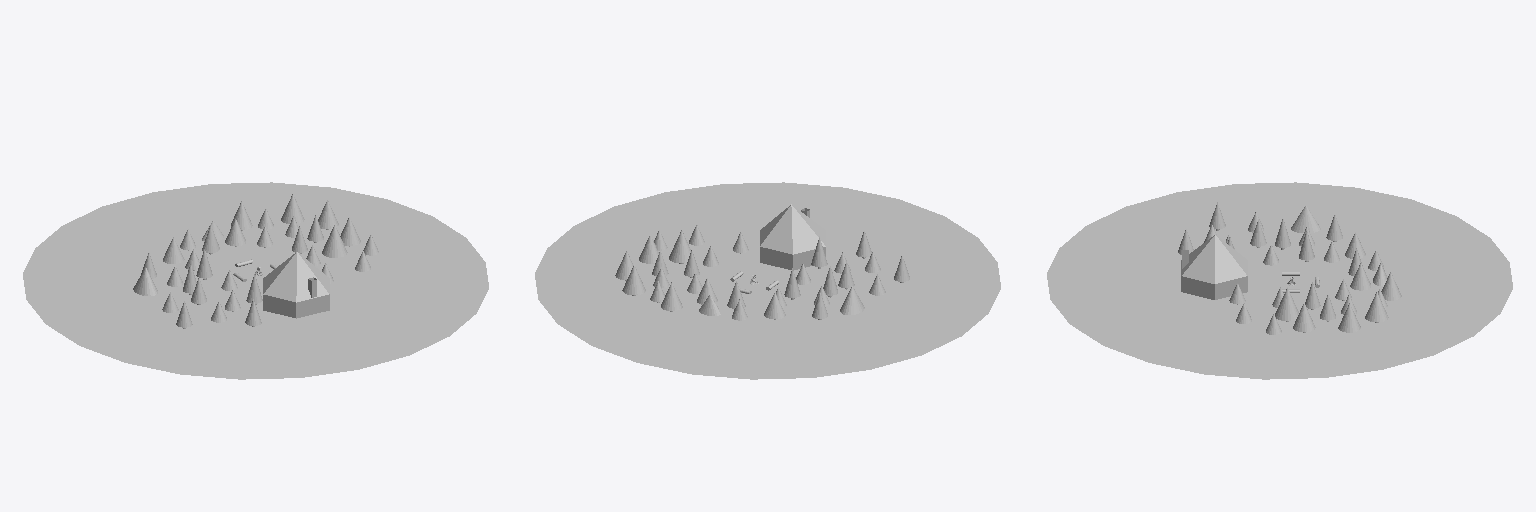
The model's file is ready_world.obj.
3 renders of one model, left to right at view 1: azimuth 30°, elevation 25°; view 2: azimuth 150°, elevation 25°; view 3: azimuth 270°, elevation 25°, orthographic.
Visible parts, largest first — view 1: ready_world-SKP-Default_Material, ready_world-COM-house-64007-Roofing_Shingles_Multi, ready_world-COM-house-64007-seina, ready_world-COM-house-64007-Default_Material; view 2: ready_world-SKP-Default_Material, ready_world-COM-house-64007-Roofing_Shingles_Multi, ready_world-COM-house-64007-seina; view 3: ready_world-SKP-Default_Material, ready_world-COM-house-64007-Roofing_Shingles_Multi, ready_world-COM-house-64007-seina.
Part boxes in pixels (left/top/right/bottom): ready_world-SKP-Default_Material: left=23, top=182, right=488, bottom=379; ready_world-COM-house-64007-Roofing_Shingles_Multi: left=263, top=252, right=329, bottom=302; ready_world-COM-house-64007-seina: left=263, top=294, right=329, bottom=318; ready_world-COM-house-64007-Default_Material: left=263, top=252, right=296, bottom=301; ready_world-SKP-Default_Material: left=535, top=182, right=1000, bottom=379; ready_world-COM-house-64007-Roofing_Shingles_Multi: left=760, top=204, right=825, bottom=254; ready_world-COM-house-64007-seina: left=760, top=247, right=825, bottom=269; ready_world-SKP-Default_Material: left=1047, top=182, right=1512, bottom=379; ready_world-COM-house-64007-Roofing_Shingles_Multi: left=1181, top=234, right=1247, bottom=283; ready_world-COM-house-64007-seina: left=1181, top=276, right=1247, bottom=299.
Bounding box in the file's own units: 92.61 × 11.35 × 92.61.